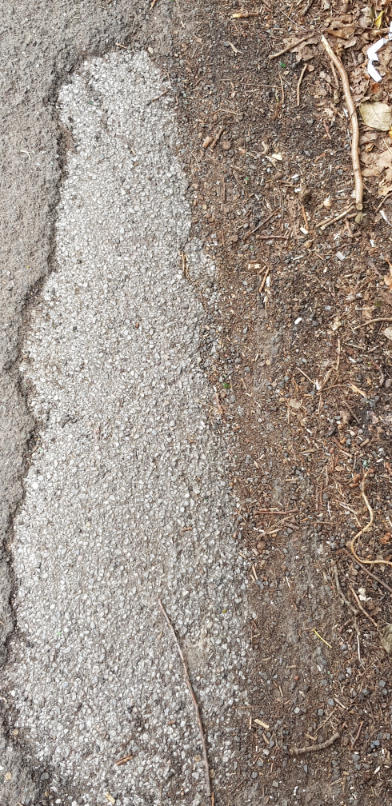pothole: (0, 33, 253, 804)
